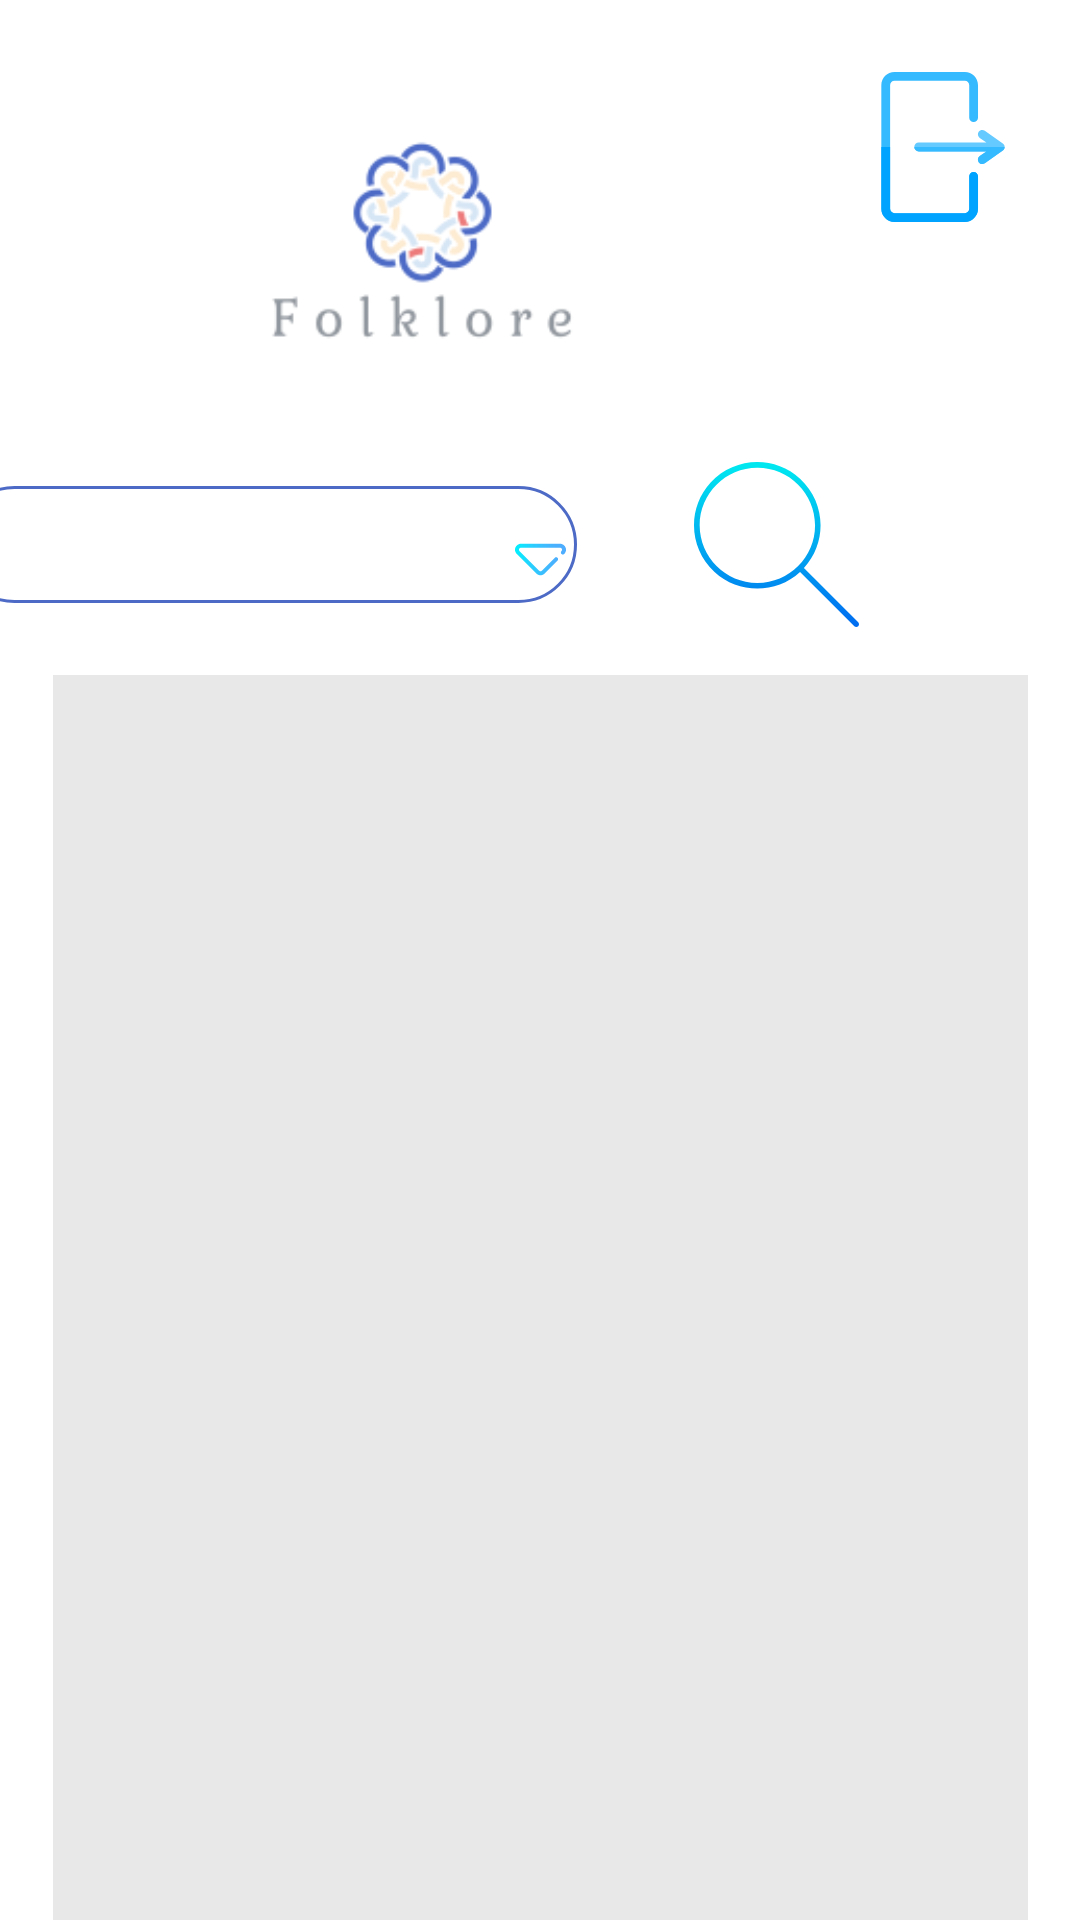

Point at icon controls on the screen. Image size 1080x1920, points as (x,y).
down arrow: (540,559)
search: (776,544)
